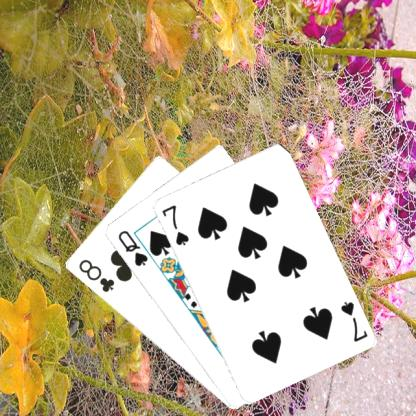7S: (158, 201, 191, 247), (337, 298, 369, 343)
8C: (75, 256, 116, 294)
QS: (115, 226, 149, 268)
